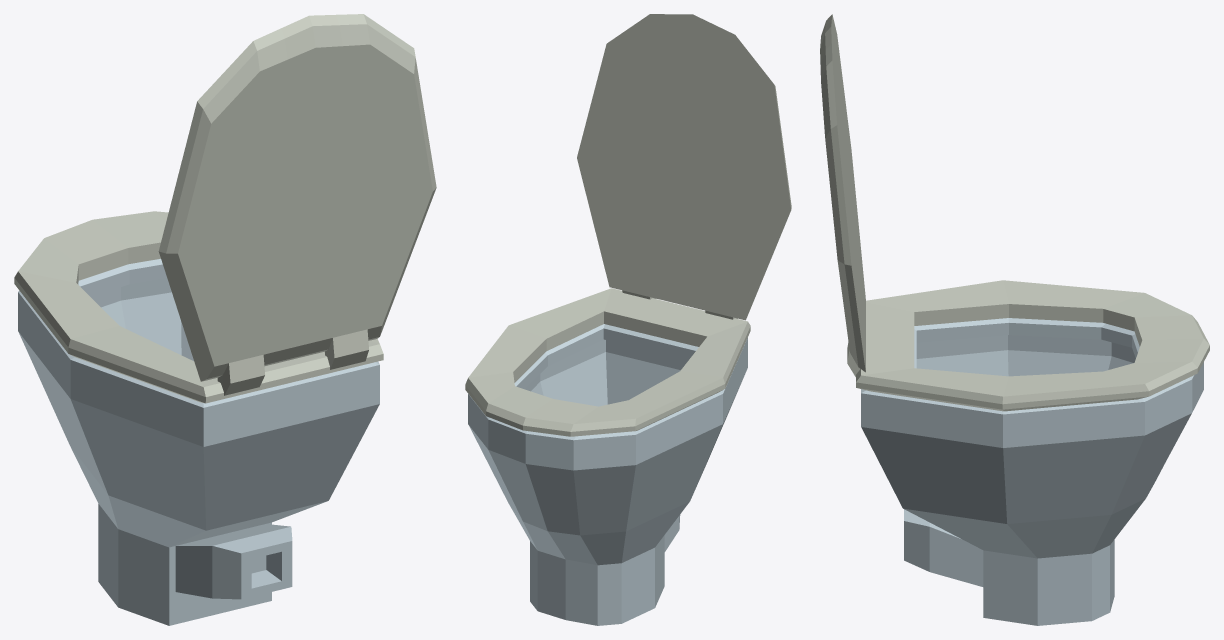
File: Klo.fbx
3 views of the same model, side by side, from view 1: azimuth 30°, elevation 25°; view 2: azimuth 150°, elevation 25°; view 3: azimuth 270°, elevation 25° (orthographic). The views are drawn at different scales.
Parts seen in each view (by area): view 1: Deckel, Schüssel, Sitz.001; view 2: Deckel, Schüssel, Sitz.001; view 3: Schüssel, Sitz.001, Deckel.
Boxes of the visible parts, bbox=[...] form: Deckel: bbox=[158, 14, 436, 395]; Schüssel: bbox=[18, 259, 379, 625]; Sitz.001: bbox=[14, 211, 383, 403]; Deckel: bbox=[577, 14, 791, 320]; Schüssel: bbox=[468, 324, 747, 625]; Sitz.001: bbox=[465, 288, 750, 436]; Schüssel: bbox=[861, 318, 1203, 625]; Sitz.001: bbox=[856, 280, 1209, 411]; Deckel: bbox=[820, 14, 865, 376].
Size of the model in its own units: 197 by 443 by 275.
